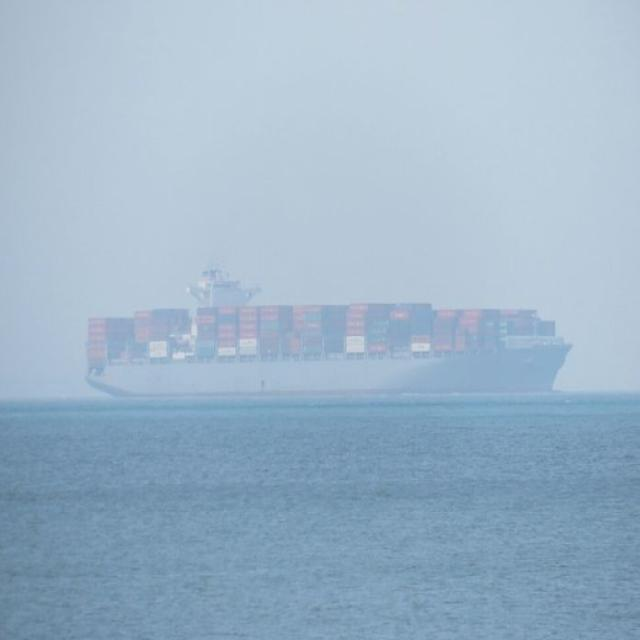cargoship: (85, 262, 578, 400)
